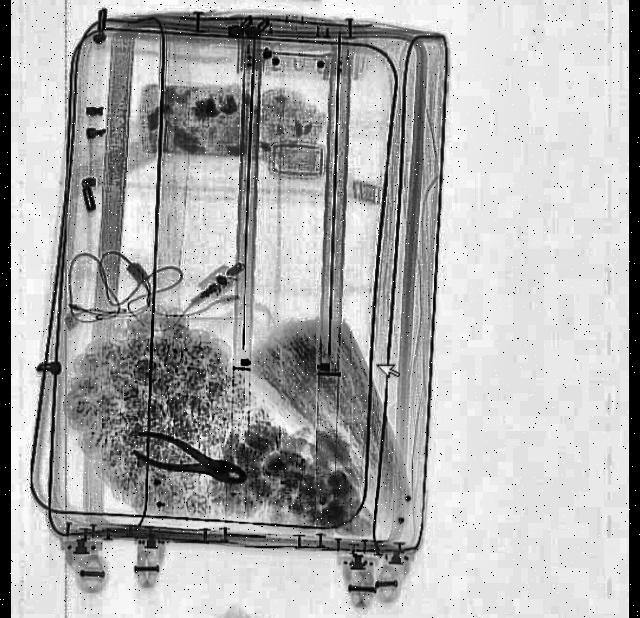Pliers: (130, 422, 248, 496)
